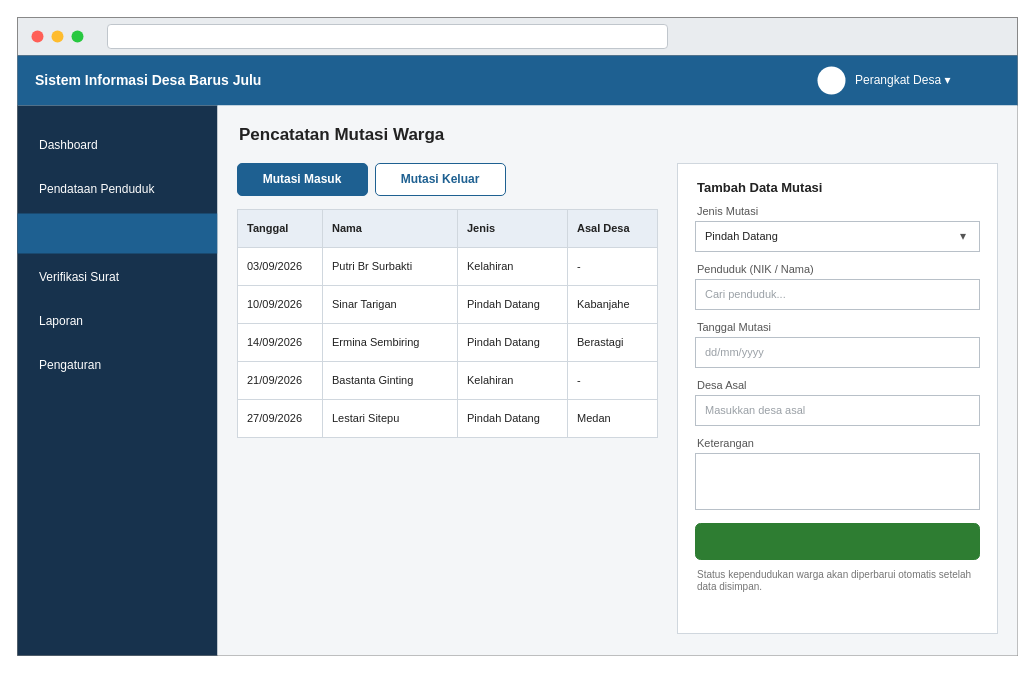
The diagram is 1035 pixels wide and 673 high, and some of its shapes have lost their labels. The centre of each missing label's shape, as x and y in pixels:
"localhost/desa-barus-julu/admin/mutasi" belongs at point (387, 36).
"Mutasi Warga" belongs at point (117, 233).
"Simpan" belongs at point (837, 541).
